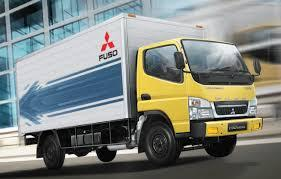truck: (126, 30, 270, 158)
